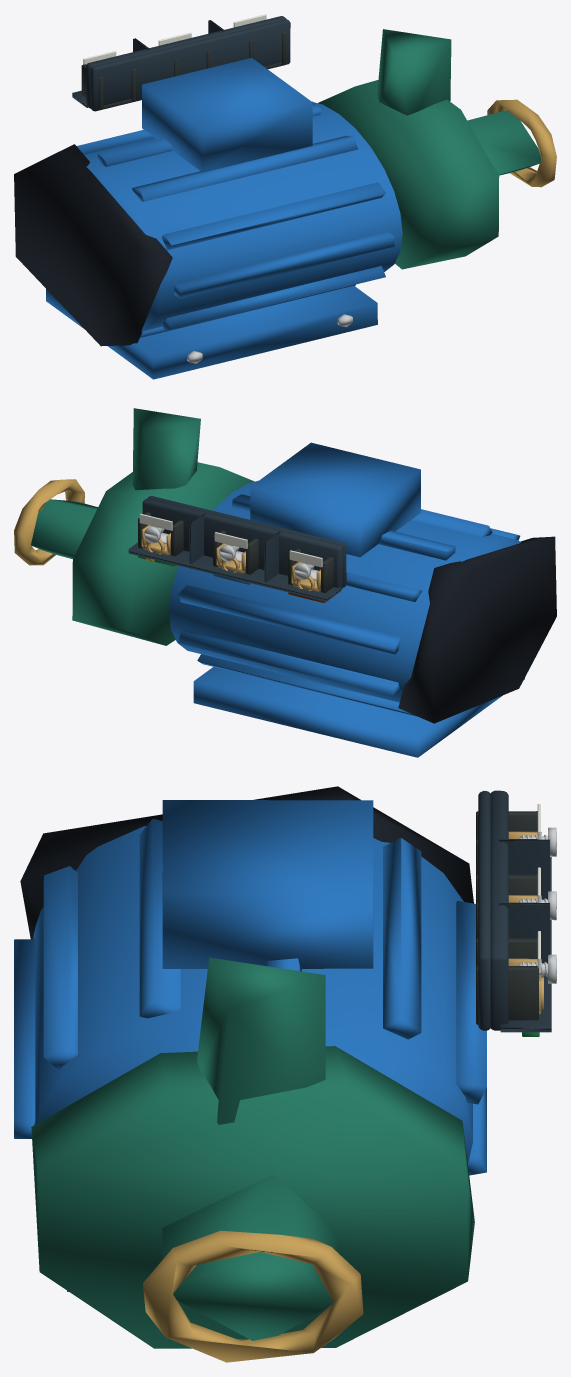
The model's file is pump_default.low.glb.
3 views of the same model, one above another, from view 1: azimuth 30°, elevation 25°; view 2: azimuth 150°, elevation 25°; view 3: azimuth 270°, elevation 25° (orthographic). The views are drawn at different scales.
Visible parts, largest first — view 1: part:body · Original 7cfa2338, part:body.001 · Original 9463cfd1, part:body, part:terminals · Original a463fd81, part:rotor.001, detail:terminal-clamp:L · Detail moulded engineering polymer; view 2: part:body · Original 7cfa2338, part:body.001 · Original 9463cfd1, part:body, part:terminals · Original a463fd81, part:rotor.001, detail:terminal-clamp:PE · Detail moulded engineering polyme, detail:terminal-clamp:N · Detail moulded engineering polymer, detail:terminal-clamp:L · Detail moulded engineering polymer, detail:terminal-clamp:N · Detail machined brass, detail:terminal-clamp:L · Detail machined brass, detail:terminal-clamp:PE · Detail machined brass; view 3: part:body.001 · Original 9463cfd1, part:body · Original 7cfa2338, part:rotor.001, part:terminals · Original a463fd81, part:body, detail:terminal-clamp:PE · Detail moulded engineering polyme, detail:terminal-clamp:N · Detail moulded engineering polymer, detail:terminal-clamp:L · Detail moulded engineering polymer.
Part boxes in pixels (x1=…): part:body · Original 7cfa2338: x1=46, y1=58, x2=402, y2=379; part:body.001 · Original 9463cfd1: x1=318, y1=29, x2=541, y2=269; part:body: x1=14, y1=144, x2=172, y2=346; part:terminals · Original a463fd81: x1=72, y1=16, x2=290, y2=111; part:rotor.001: x1=487, y1=99, x2=556, y2=187; detail:terminal-clamp:L · Detail moulded engineering polymer: x1=81, y1=64, x2=136, y2=110; part:body · Original 7cfa2338: x1=169, y1=442, x2=524, y2=757; part:body.001 · Original 9463cfd1: x1=31, y1=408, x2=254, y2=645; part:body: x1=398, y1=536, x2=556, y2=723; part:terminals · Original a463fd81: x1=128, y1=496, x2=346, y2=601; part:rotor.001: x1=14, y1=479, x2=84, y2=565; detail:terminal-clamp:PE · Detail moulded engineering polyme: x1=138, y1=512, x2=183, y2=556; detail:terminal-clamp:N · Detail moulded engineering polymer: x1=213, y1=530, x2=258, y2=574; detail:terminal-clamp:L · Detail moulded engineering polymer: x1=288, y1=549, x2=333, y2=593; detail:terminal-clamp:N · Detail machined brass: x1=216, y1=543, x2=245, y2=573; detail:terminal-clamp:L · Detail machined brass: x1=291, y1=561, x2=320, y2=591; detail:terminal-clamp:PE · Detail machined brass: x1=141, y1=525, x2=170, y2=555; part:body.001 · Original 9463cfd1: x1=31, y1=957, x2=474, y2=1348; part:body · Original 7cfa2338: x1=14, y1=800, x2=486, y2=1291; part:rotor.001: x1=143, y1=1230, x2=363, y2=1362; part:terminals · Original a463fd81: x1=478, y1=790, x2=551, y2=1032; part:body: x1=20, y1=786, x2=473, y2=939; detail:terminal-clamp:PE · Detail moulded engineering polyme: x1=476, y1=938, x2=540, y2=1024; detail:terminal-clamp:N · Detail moulded engineering polymer: x1=476, y1=874, x2=537, y2=941; detail:terminal-clamp:L · Detail moulded engineering polymer: x1=476, y1=811, x2=537, y2=875.
Bounding box in the file's own units: 1.6 × 0.7486 × 0.9584.
